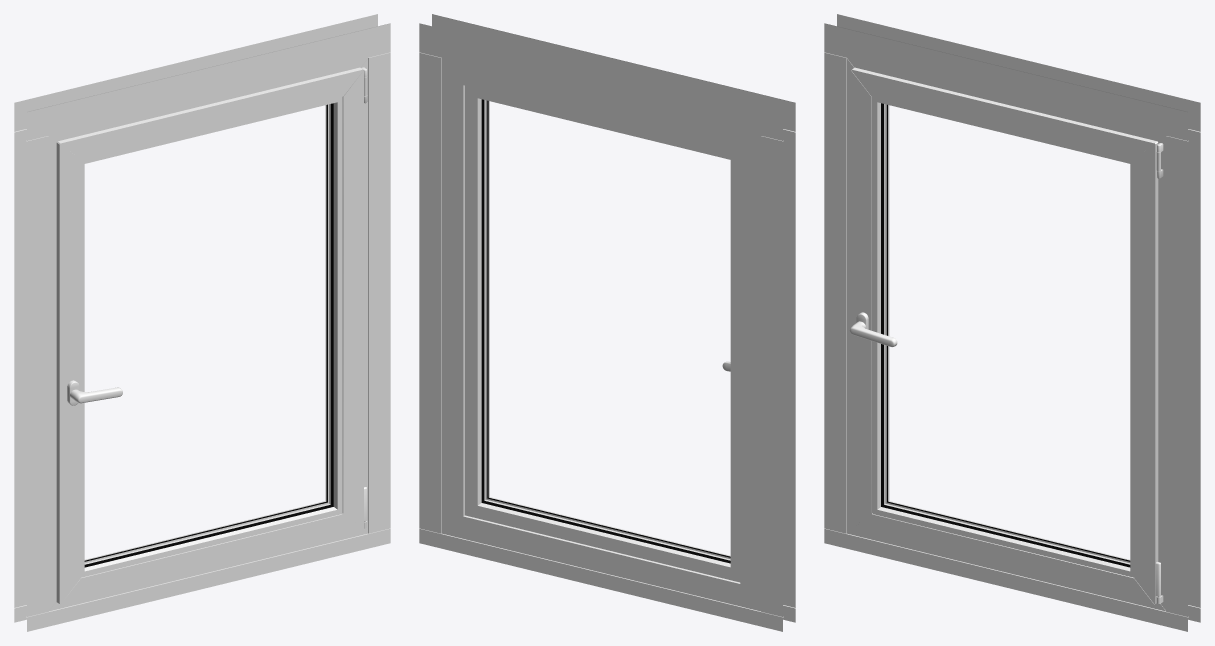
Rendered from windowsAnim.glb.
3 renders of one model, left to right at view 1: azimuth 30°, elevation 25°; view 2: azimuth 150°, elevation 25°; view 3: azimuth 330°, elevation 25°, orthographic.
Parts seen in each view (by area): view 1: #WIN0003_Frame, #WIN0003_Window, #WIN0003_Handle; view 2: #WIN0003_Frame, #WIN0003_Window; view 3: #WIN0003_Frame, #WIN0003_Window, #WIN0003_Handle.
Part boxes in pixels (x1,y1,x2,y2): #WIN0003_Frame: [14, 14, 390, 631]; #WIN0003_Window: [56, 67, 367, 604]; #WIN0003_Handle: [70, 387, 122, 403]; #WIN0003_Frame: [419, 14, 795, 631]; #WIN0003_Window: [465, 85, 740, 582]; #WIN0003_Frame: [824, 14, 1200, 631]; #WIN0003_Window: [851, 67, 1160, 604]; #WIN0003_Handle: [849, 321, 897, 347].
Bounding box in the file's own units: 1.04 × 1.42 × 0.1283.
Materials: 1 (1 with a texture image).
